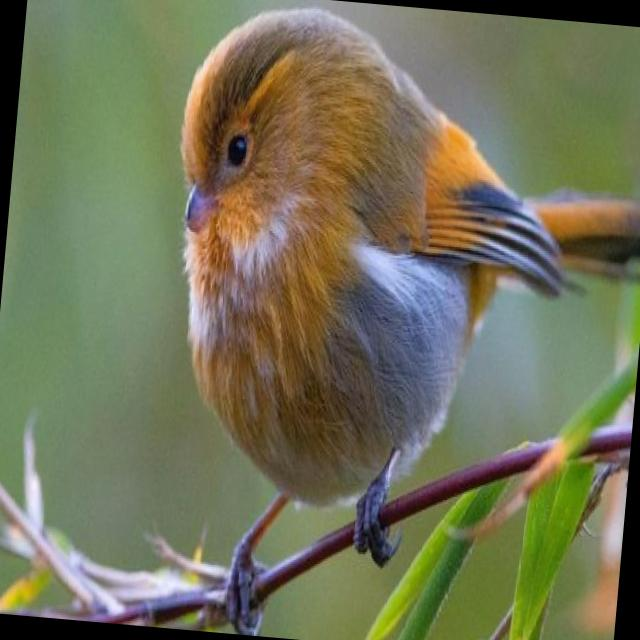Birds: (118, 0, 558, 504)
